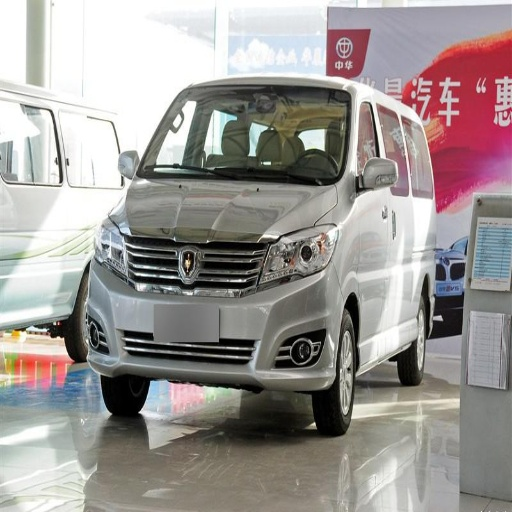front_bumper: (81, 236, 342, 391)
front_glass: (135, 84, 350, 184)
front_left_door: (355, 100, 399, 337)
front_right_light: (94, 214, 126, 277)
